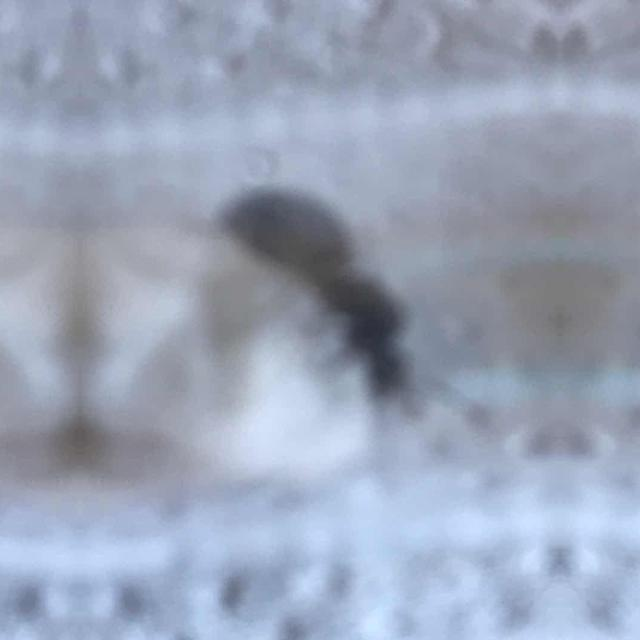Lasius: (218, 179, 474, 459)
